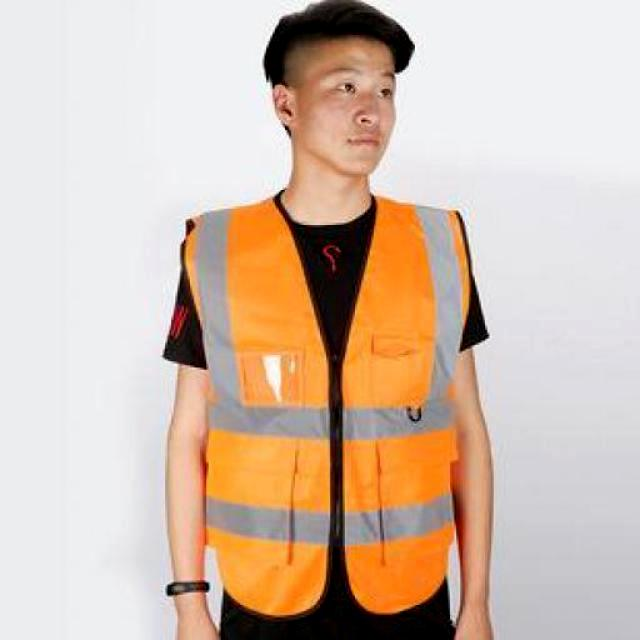no_head_wear: (264, 0, 414, 88)
person: (164, 0, 491, 639)
